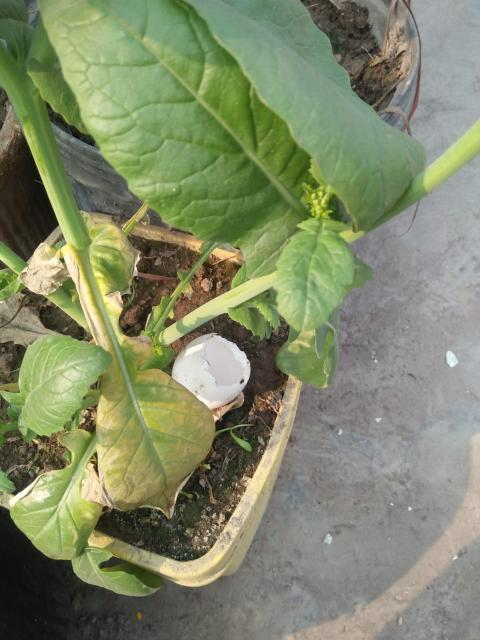Roto: (170, 332, 252, 411)
